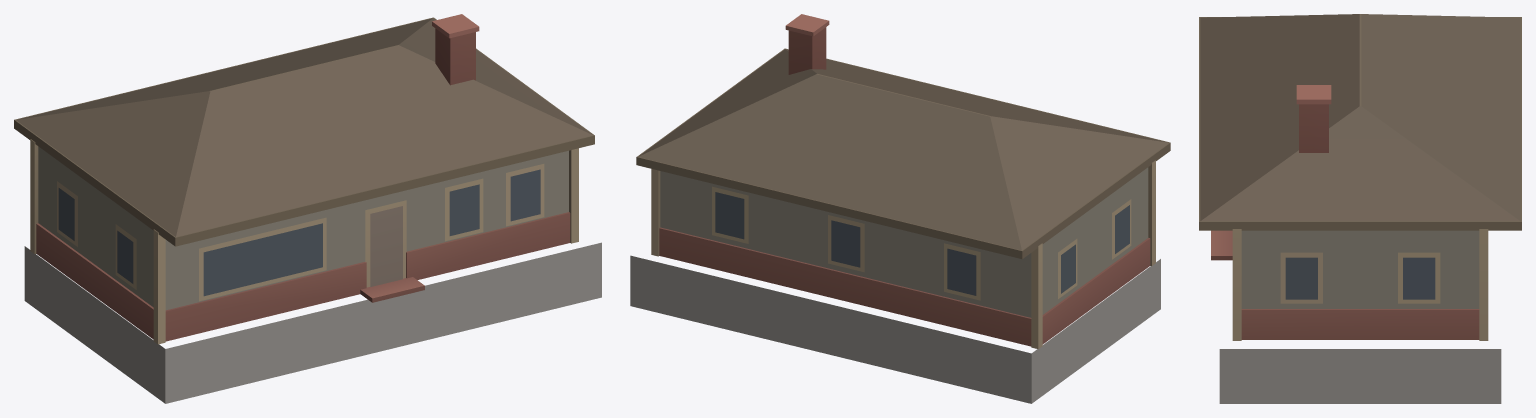
Rendered from ranch.lod2.glb.
The picture shows the model from 3 angles, left to right: view 1: azimuth 30°, elevation 25°; view 2: azimuth 150°, elevation 25°; view 3: azimuth 270°, elevation 25°; orthographic projection. The views are drawn at different scales.
Size of the model in its own units: 12.49 by 7.18 by 7.98.
